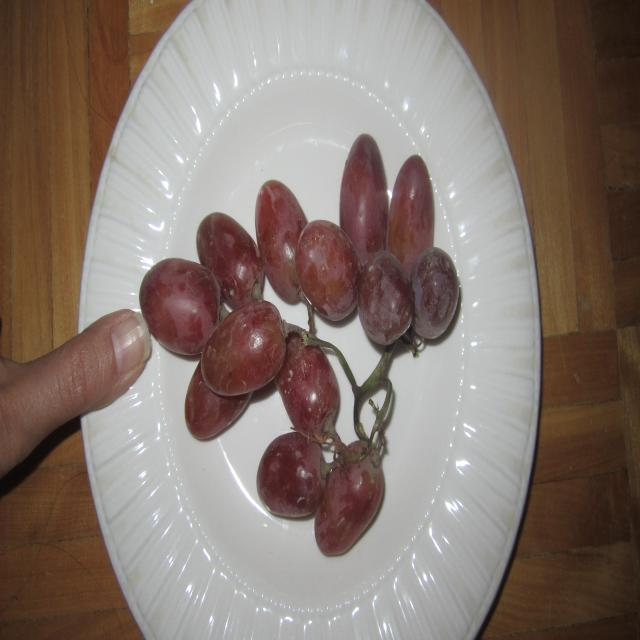grapes: (139, 131, 460, 556)
